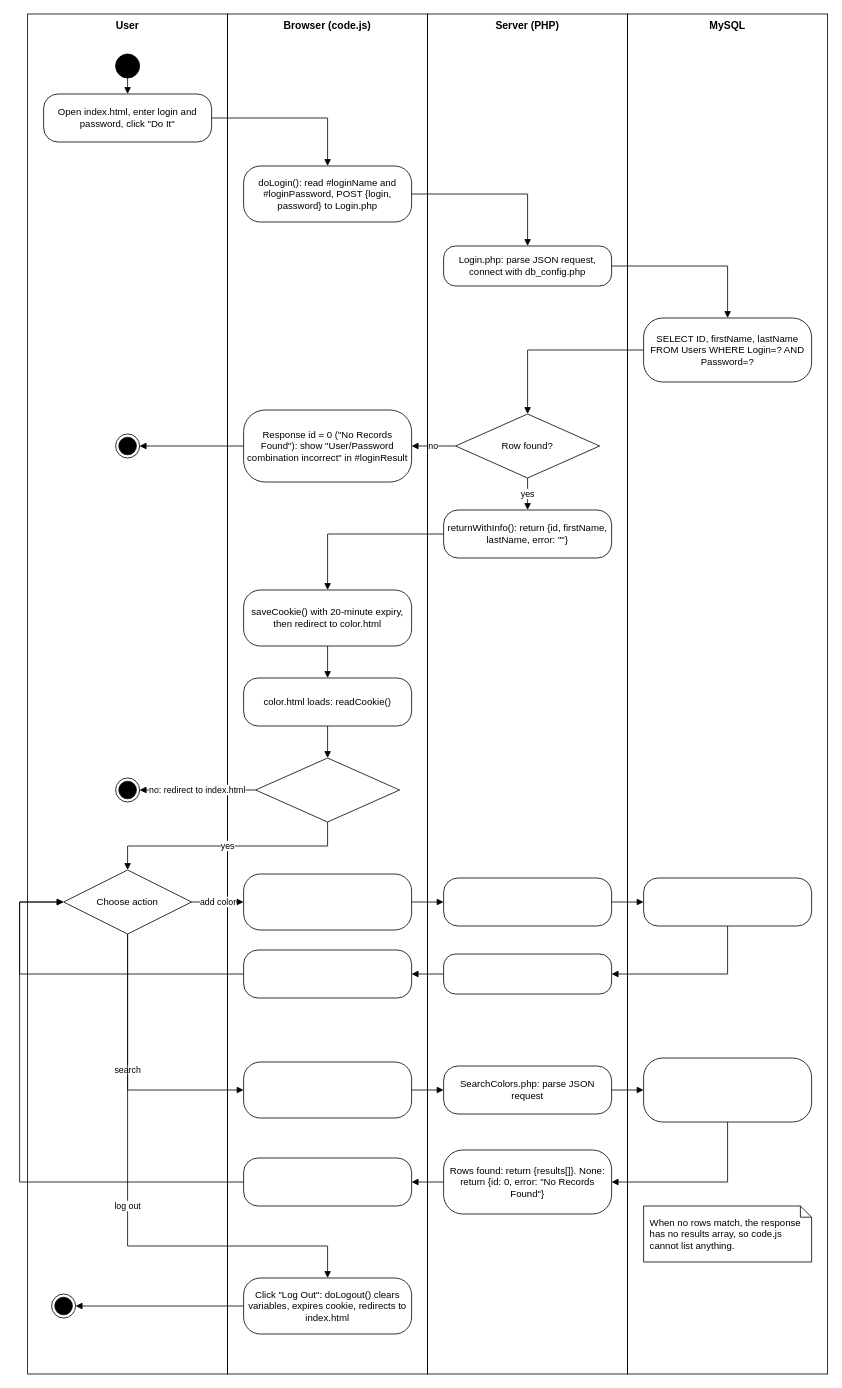
Some shapes in this 842 by 1388 pixel diagram are drawn without their labels. The centre of each missing label's shape, as x and y in pixels:
AddColor.php: parse JSON request: the point at 527,901
Click "Add Color": addColor() POSTs {color, userId} to AddColor.php: the point at 327,901
Click "Search Color": searchColor() POSTs {search, userId} to SearchColors.php: the point at 327,1089
INSERT INTO Colors (UserId, Name) VALUES (?, ?): the point at 727,901
returnWithError(""): return {error: ""}: the point at 527,973
SELECT Name FROM Colors WHERE Name LIKE %search% AND UserID=?: the point at 727,1089
Show "Color has been added": the point at 327,973
Show "Color(s) has been retrieved" and list results: the point at 327,1181
userId >= 0?: the point at 327,789
